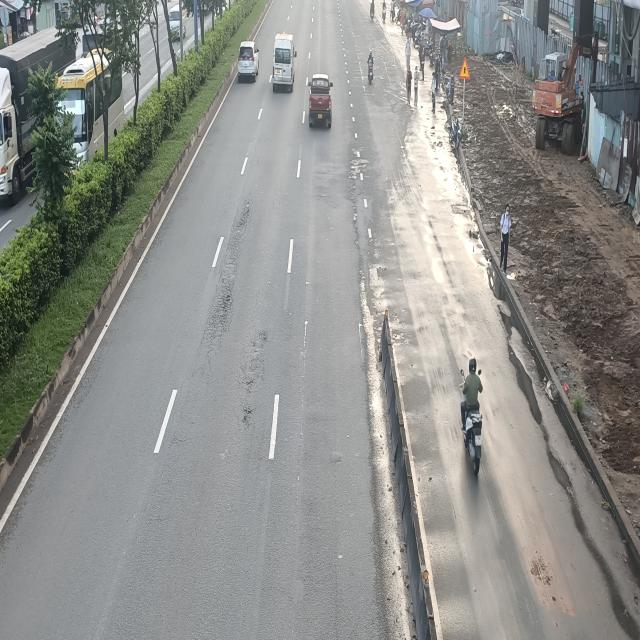car: (307, 75, 333, 130), (238, 40, 260, 81)
van: (272, 36, 297, 94)
